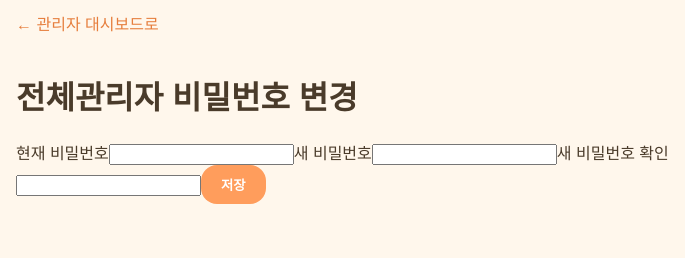
Test case: SuperAdminPasswordPage › 새 비밀번호와 확인이 다르면 저장하지 않고 안내 문구를 보여준다
The image size is (685, 258).
Step 1. Type "oldpw" into the password field labelled "현재 비밀번호" → (201, 154), box [109,144,294,165]
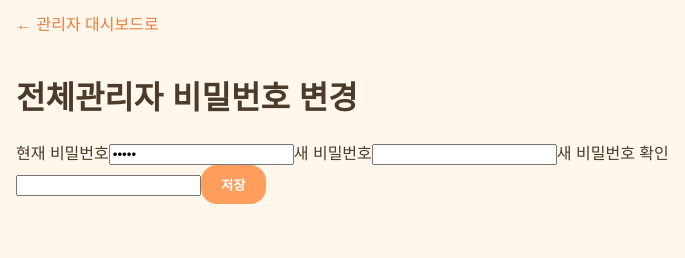
Step 2. Type "newpw123" into the password field labelled "새 비밀번호" → (464, 154), box [372,144,557,165]
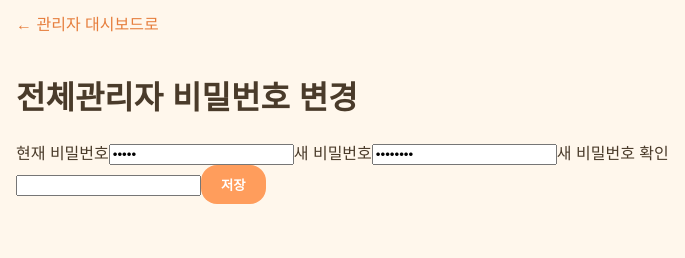
Step 3. Type "differentpw" into the password field labelled "새 비밀번호 확인" → (108, 185), box [16,175,201,196]
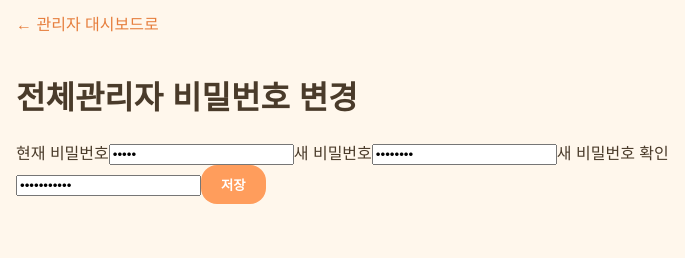
Step 4. Click the button "저장" → click(233, 184), box [201,165,266,204]
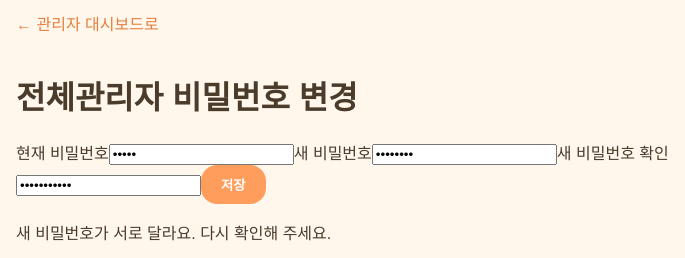
Check: the message shows "새 비밀번호가 서로 달라요", box [16,225,331,242]
